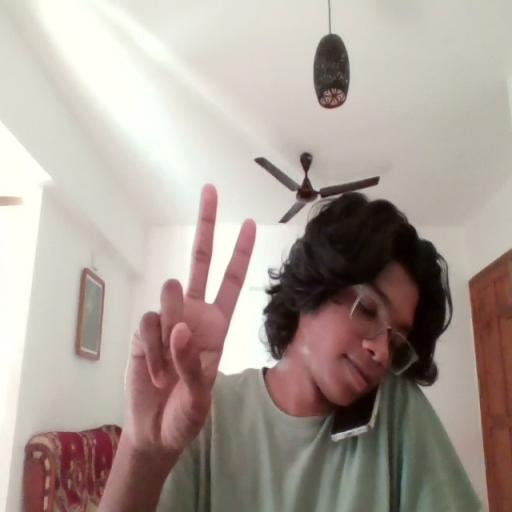scissor: (124, 183, 257, 466)
